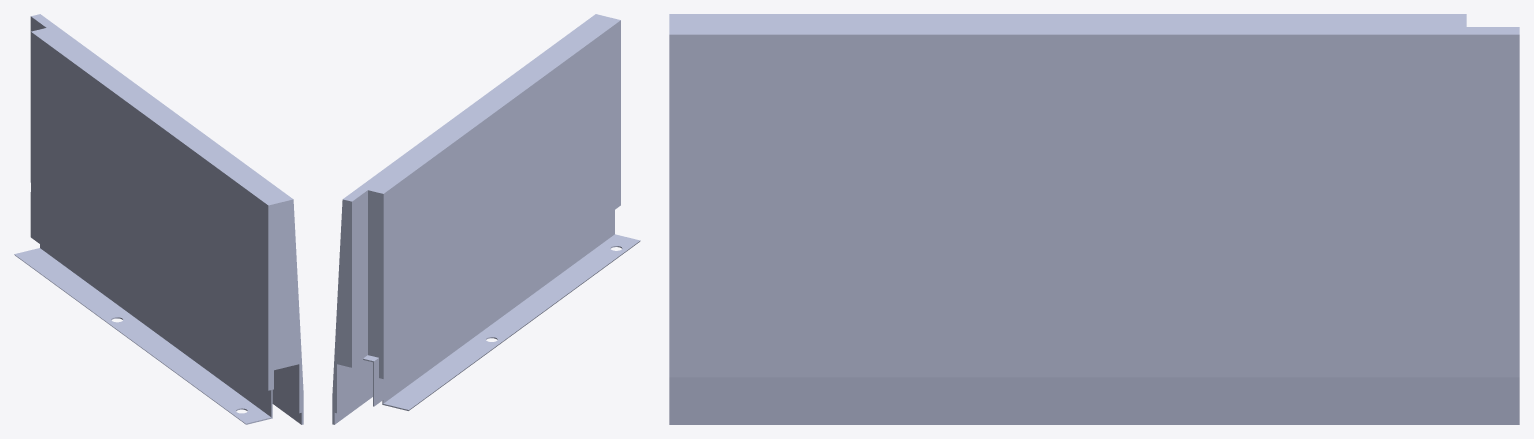
File: mv-kava-K270-m.glb
The picture shows the model from 3 angles, left to right: view 1: azimuth 30°, elevation 25°; view 2: azimuth 150°, elevation 25°; view 3: azimuth 270°, elevation 25°; orthographic projection. The views are drawn at different scales.
Parts seen in each view (by area): view 1: 44933184; view 2: 44933184; view 3: 44933184.
Part boxes in pixels (bbox=[...]): 44933184: bbox=[14, 14, 303, 424]; 44933184: bbox=[332, 14, 640, 424]; 44933184: bbox=[669, 14, 1519, 424].
Size of the model in its own units: 0.0335 by 0.129 by 0.2602.
